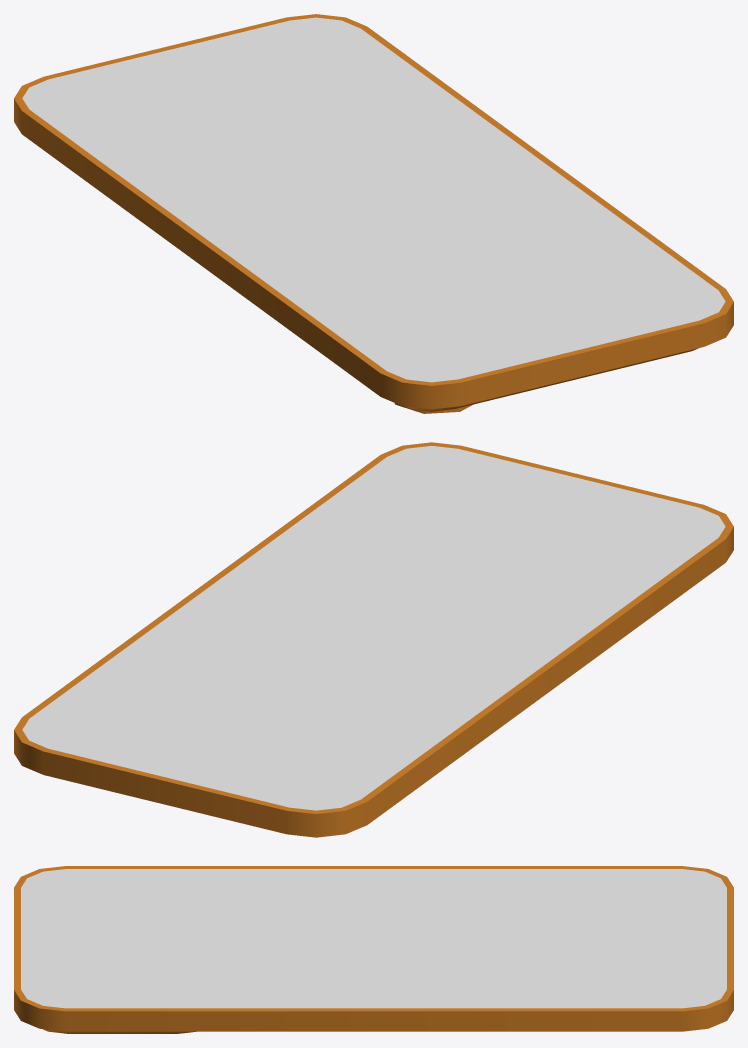
File: smartphone.fbx
3 renders of one model, top to bottom at view 1: azimuth 30°, elevation 25°; view 2: azimuth 150°, elevation 25°; view 3: azimuth 270°, elevation 25°, orthographic. The views are drawn at different scales.
Parts seen in each view (by area): view 1: smartphone_screen, smartphone_base; view 2: smartphone_screen, smartphone_base; view 3: smartphone_screen, smartphone_base.
Boxes of the visible parts, x1=… form: smartphone_screen: x1=22, y1=17, x2=725, y2=382; smartphone_base: x1=14, y1=14, x2=733, y2=413; smartphone_screen: x1=22, y1=446, x2=725, y2=810; smartphone_base: x1=14, y1=442, x2=733, y2=837; smartphone_screen: x1=21, y1=869, x2=726, y2=1008; smartphone_base: x1=14, y1=866, x2=733, y2=1033.
Size of the model in its own units: 0.078 by 0.1634 by 0.00875.
